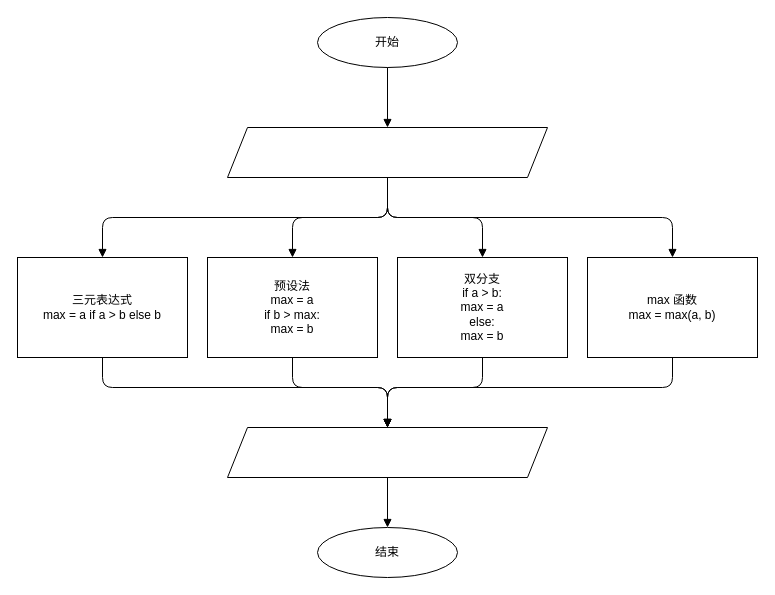
Image size: 775x595. Some labels were removed from this diagram. Each missing label, with the box of its shape:
输入数值 a、b: (226, 126, 548, 178)
输出较大值: (226, 426, 548, 478)
